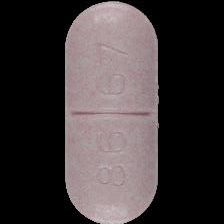55289-736: (0, 0, 224, 224)
